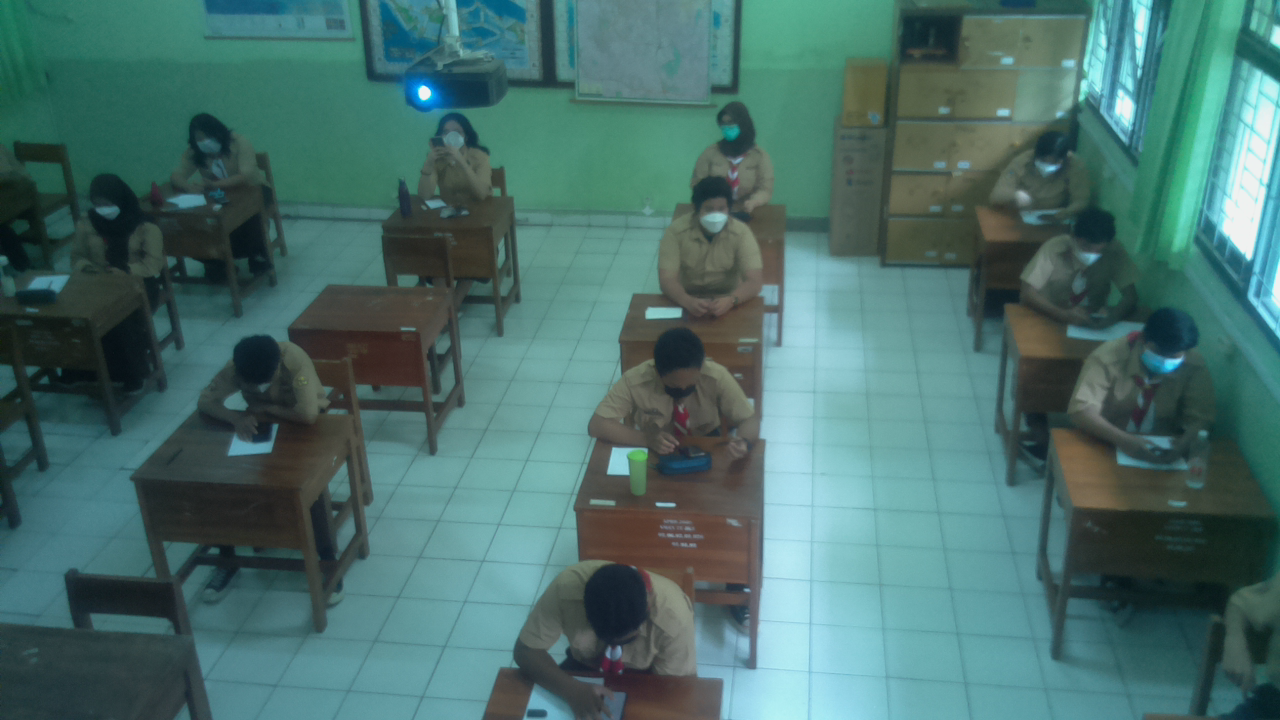Student: (549, 563, 686, 677), (627, 333, 747, 442), (1100, 309, 1208, 430), (661, 187, 766, 289), (73, 169, 161, 273), (219, 339, 319, 415), (1043, 207, 1121, 302), (697, 103, 770, 198), (419, 115, 492, 197), (181, 113, 259, 186), (1003, 131, 1082, 202)
